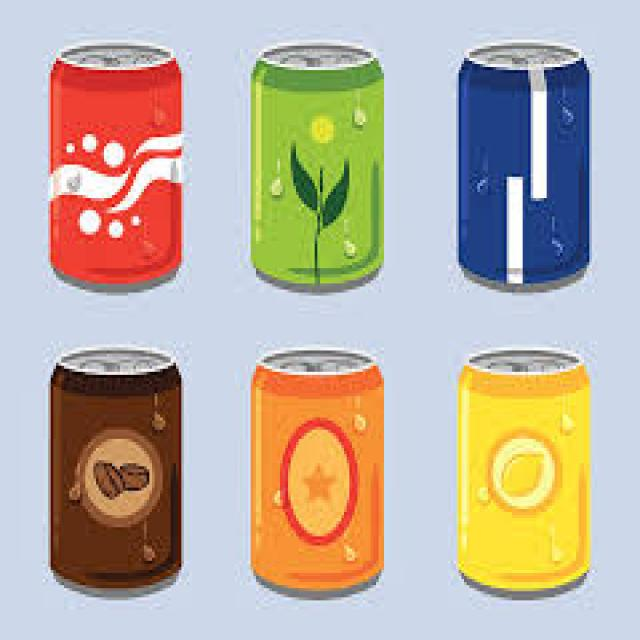Cans: (240, 34, 395, 298), (42, 342, 194, 604), (43, 34, 192, 296), (451, 34, 600, 296), (451, 342, 600, 604), (243, 338, 392, 598)
